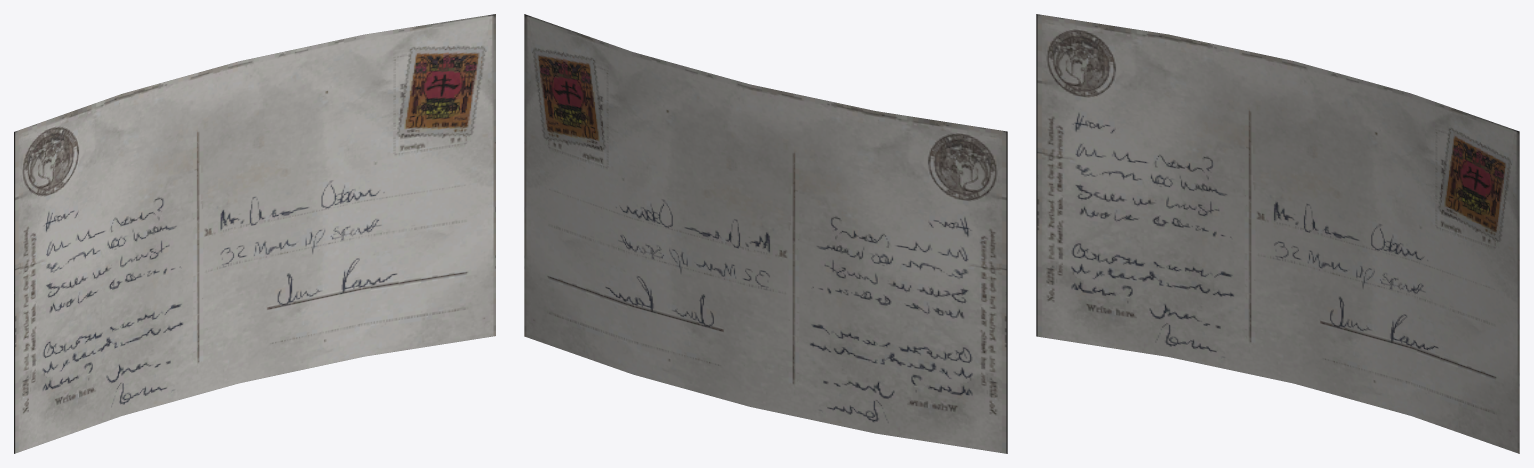
File: postcard_cabin_05.dae
The picture shows the model from 3 angles, left to right: view 1: azimuth 30°, elevation 25°; view 2: azimuth 150°, elevation 25°; view 3: azimuth 330°, elevation 25°; orthographic projection.
Visible parts, largest first — view 1: Mesh; view 2: Mesh; view 3: Mesh.
Part boxes in pixels (bbox=[...]): Mesh: bbox=[14, 14, 495, 453]; Mesh: bbox=[524, 14, 1007, 453]; Mesh: bbox=[1036, 14, 1519, 453].
Bounding box in the file's own units: 0.1522 × 0.0972 × 0.00879.
